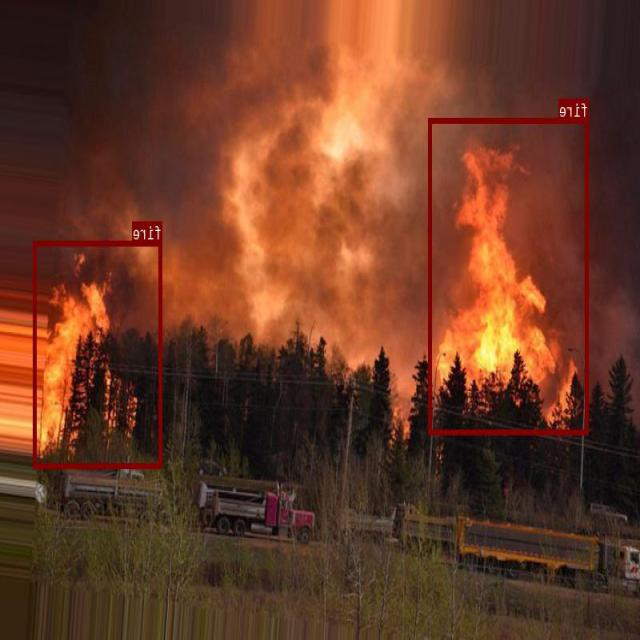fire: (430, 118, 590, 433), (34, 240, 163, 467)
